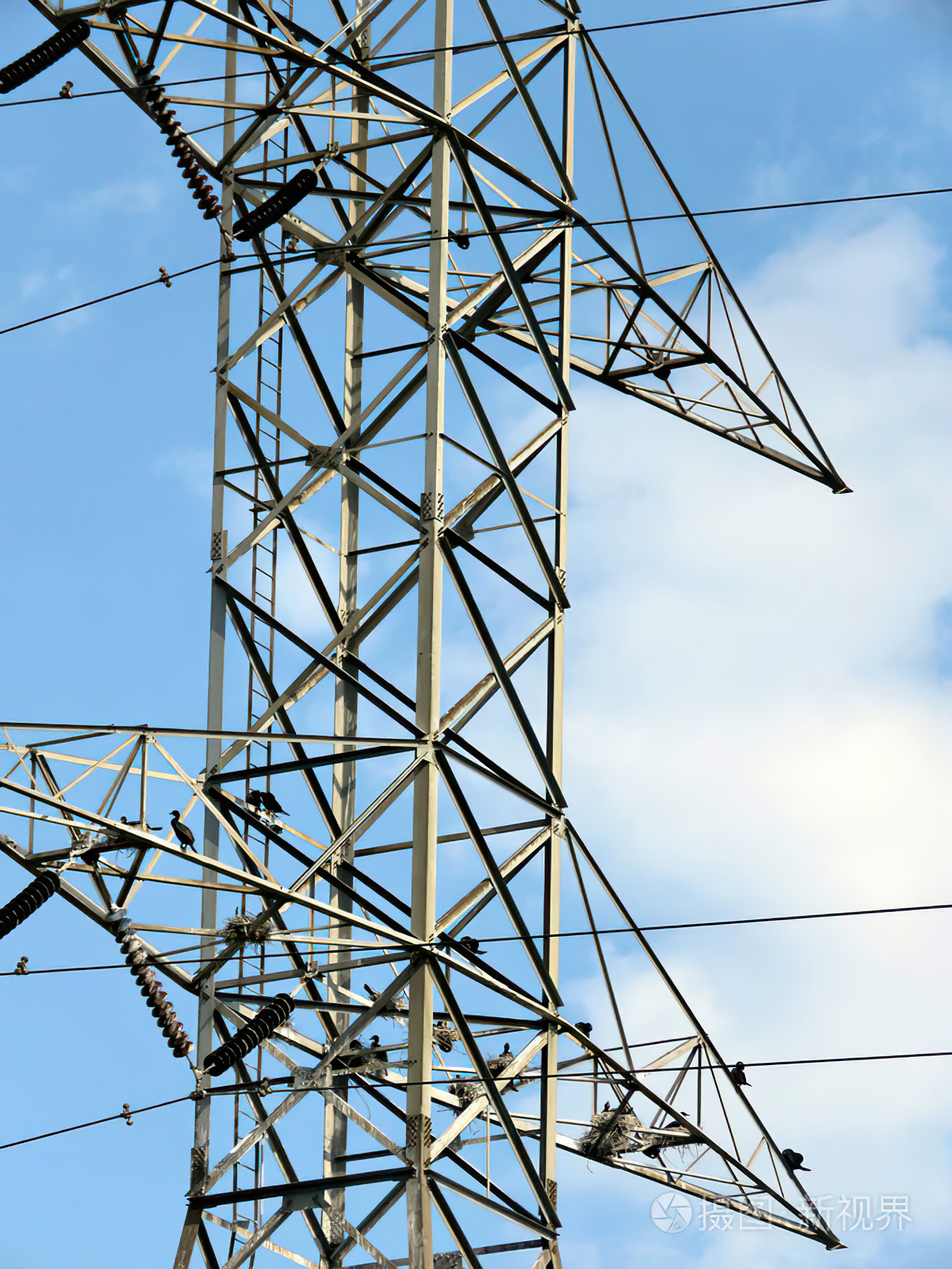insulator: (135, 63, 227, 220), (101, 909, 193, 1064), (203, 989, 299, 1078), (1, 13, 91, 97), (230, 168, 322, 241), (1, 866, 65, 942)
